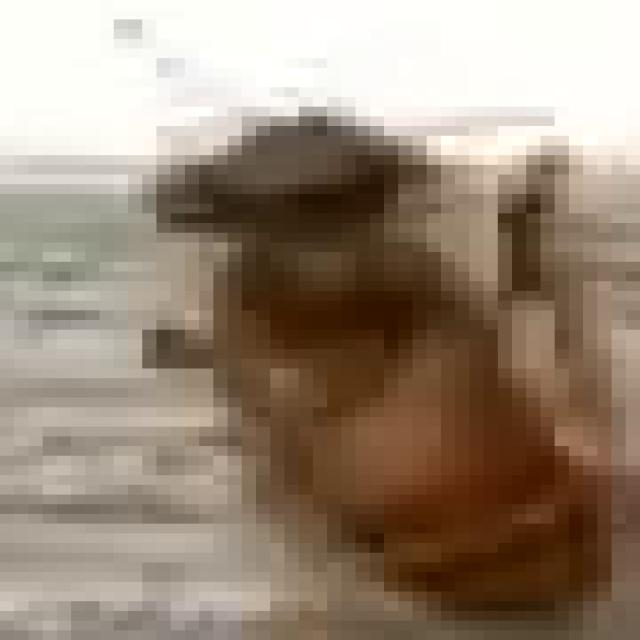honeybee: (120, 112, 621, 626)
